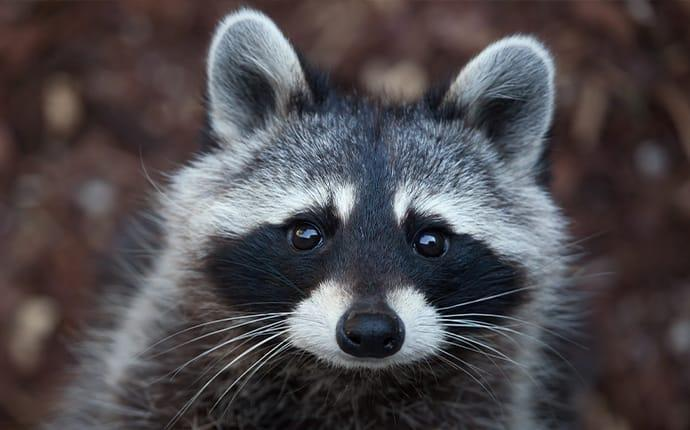raccoon: (93, 11, 564, 430)
